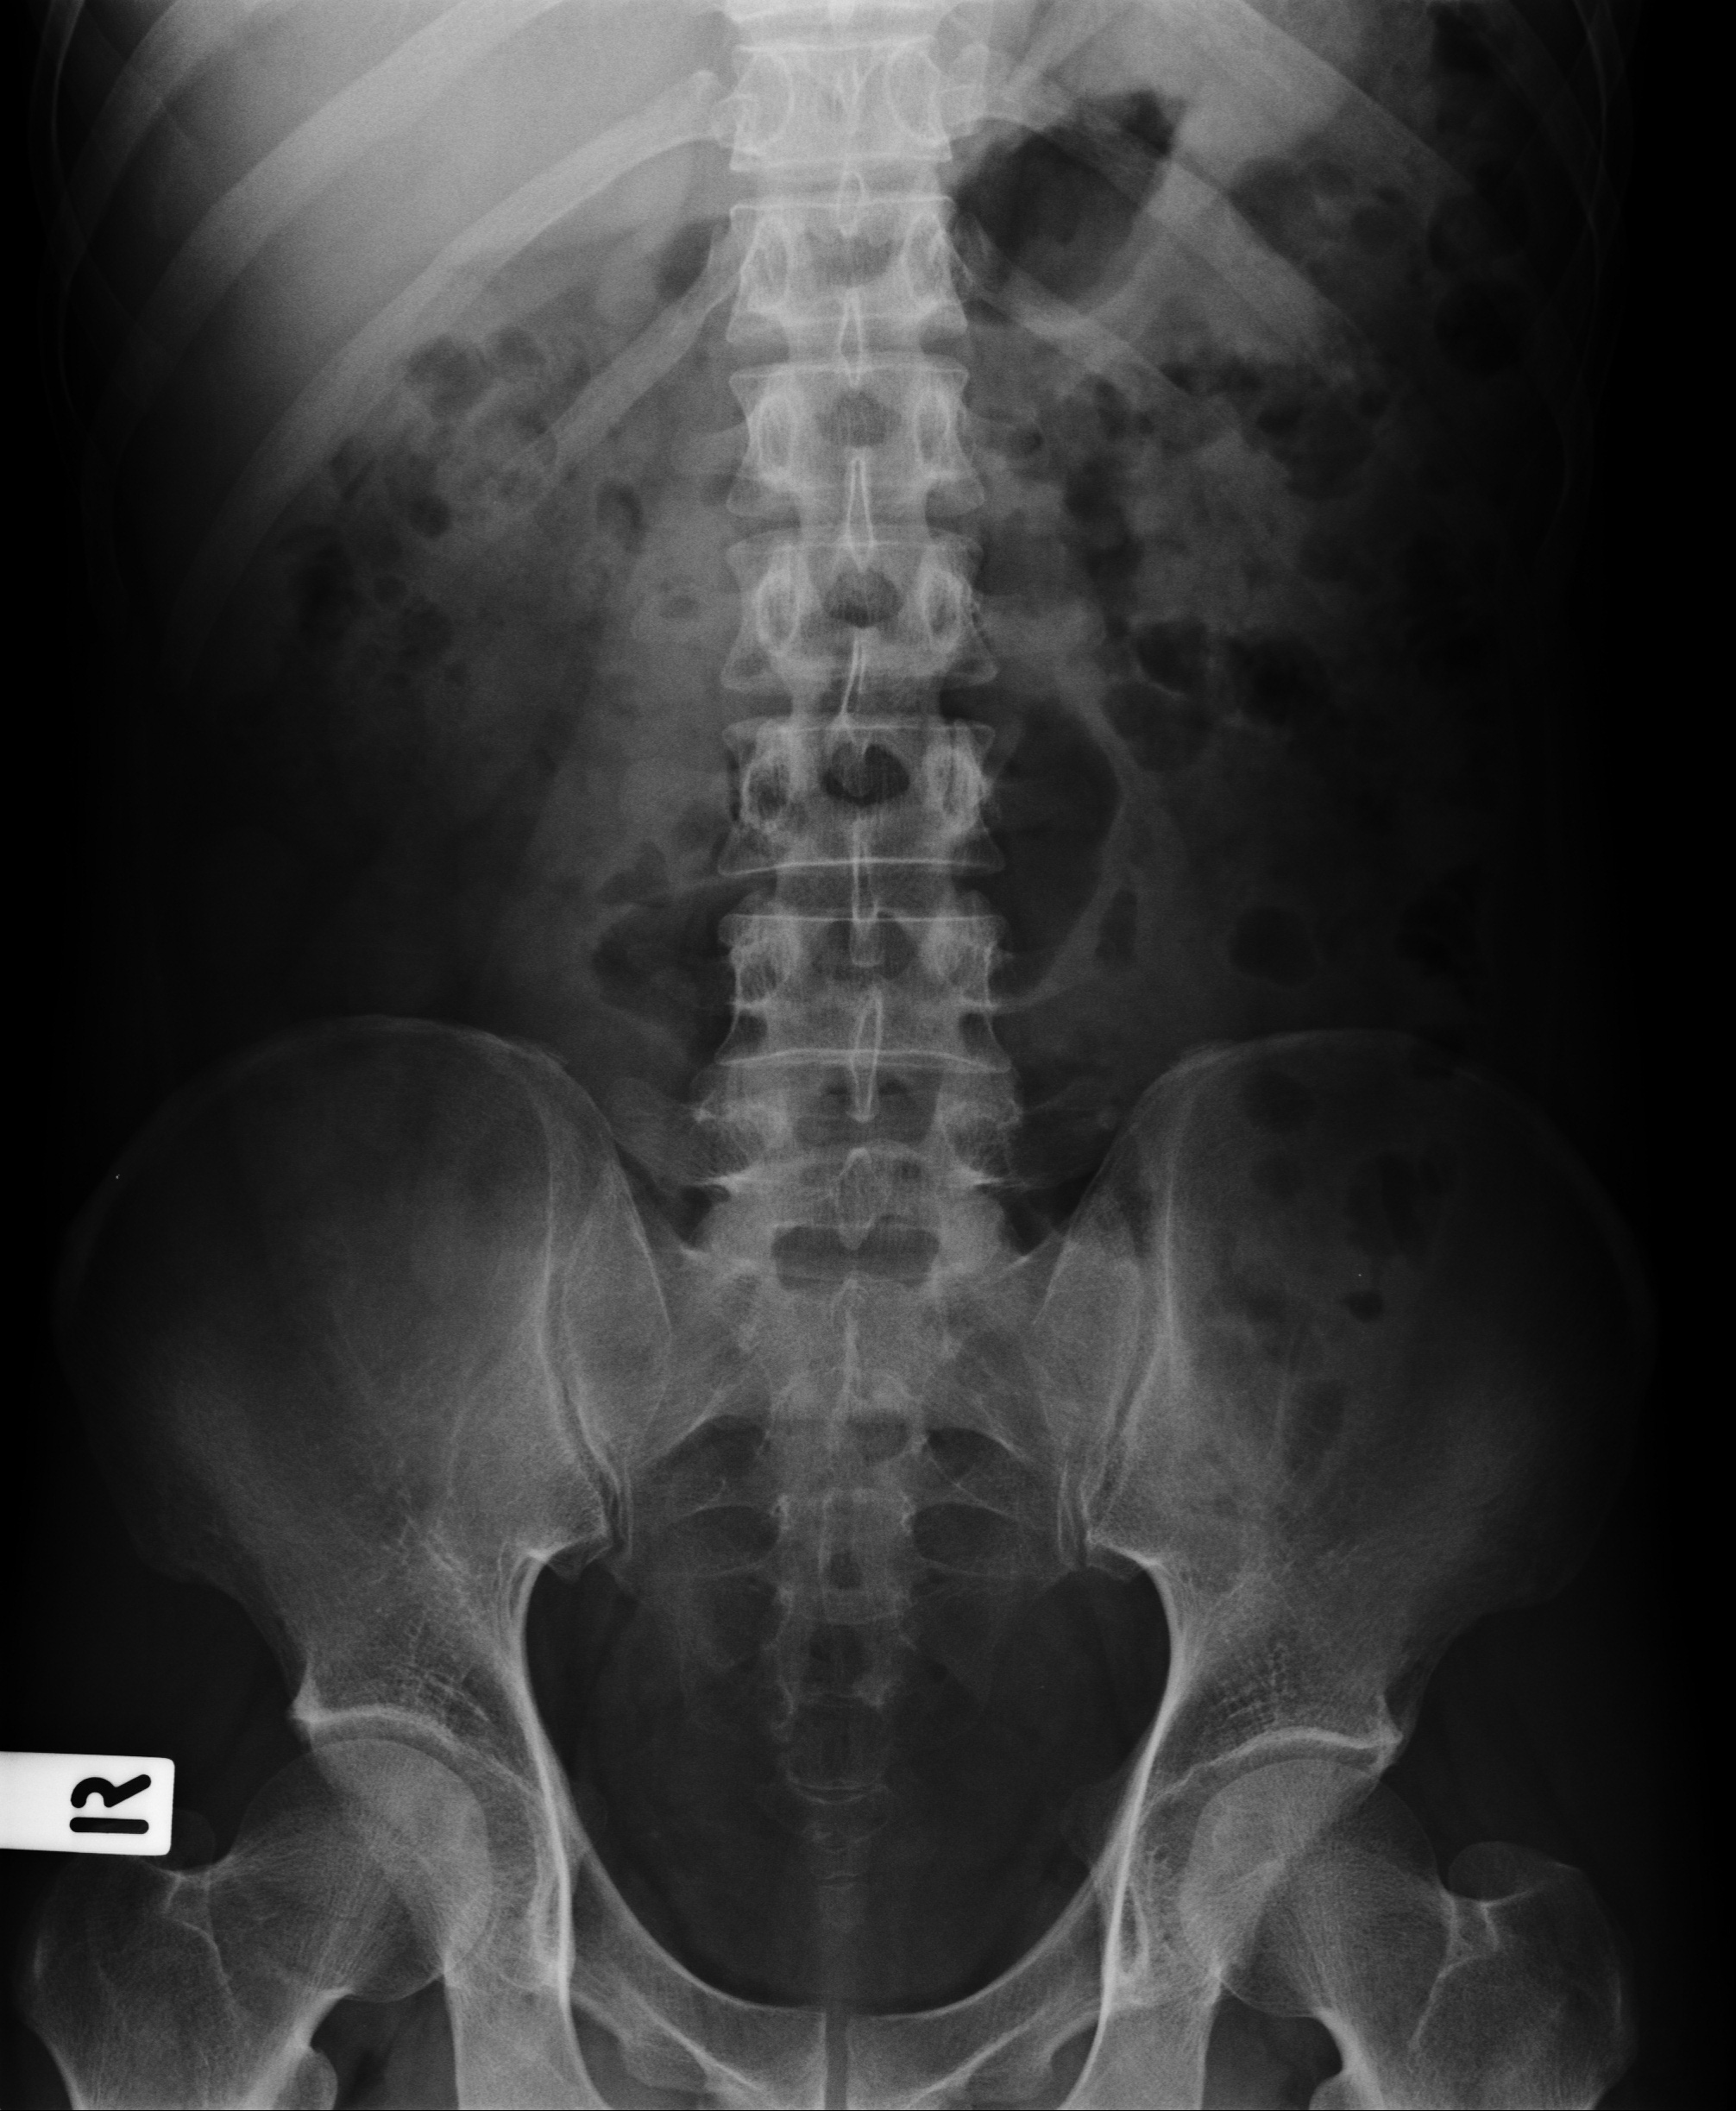lumbar scoliosis: (687, 25, 1017, 1427)
